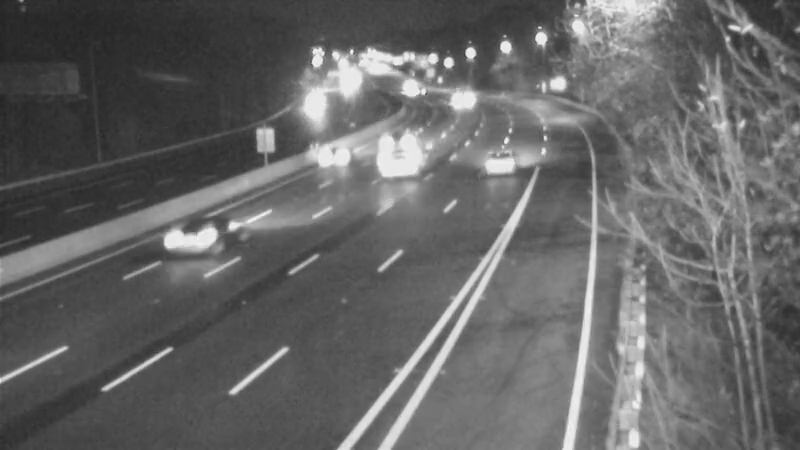vehicle: (348, 122, 428, 202), (287, 113, 367, 193), (457, 130, 537, 210), (158, 196, 238, 276), (430, 69, 480, 119), (368, 107, 418, 157), (286, 82, 336, 132)
